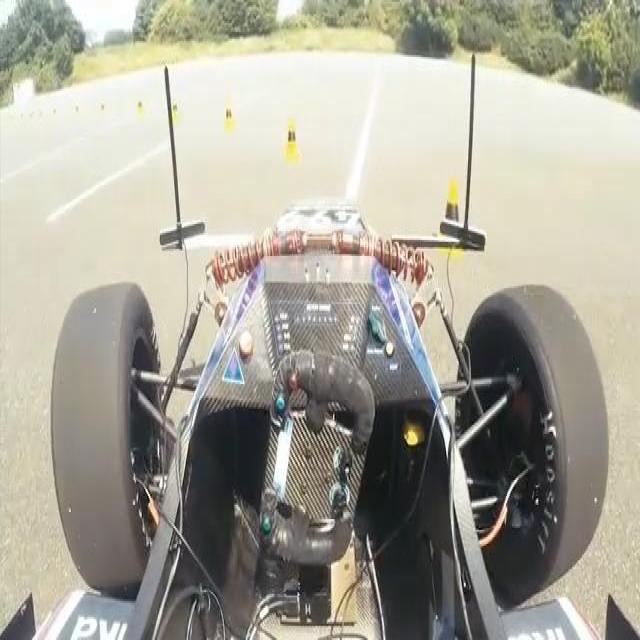yellow_cone: (435, 176, 467, 261), (283, 116, 301, 162)
